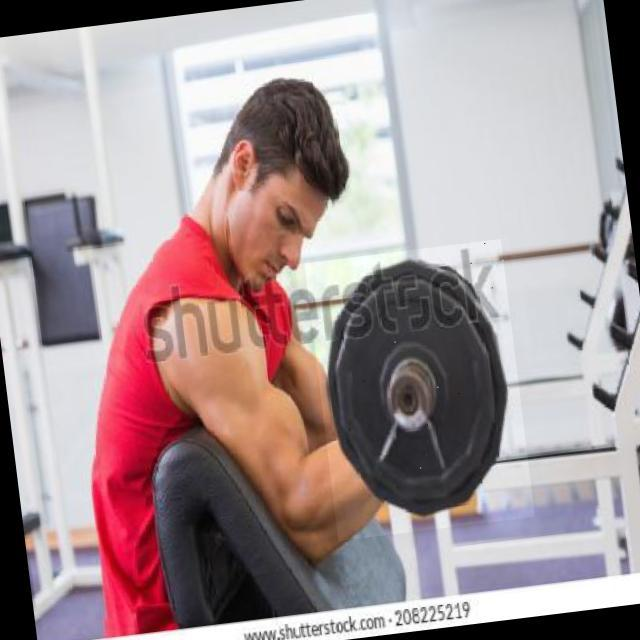barbell: (305, 240, 536, 542)
